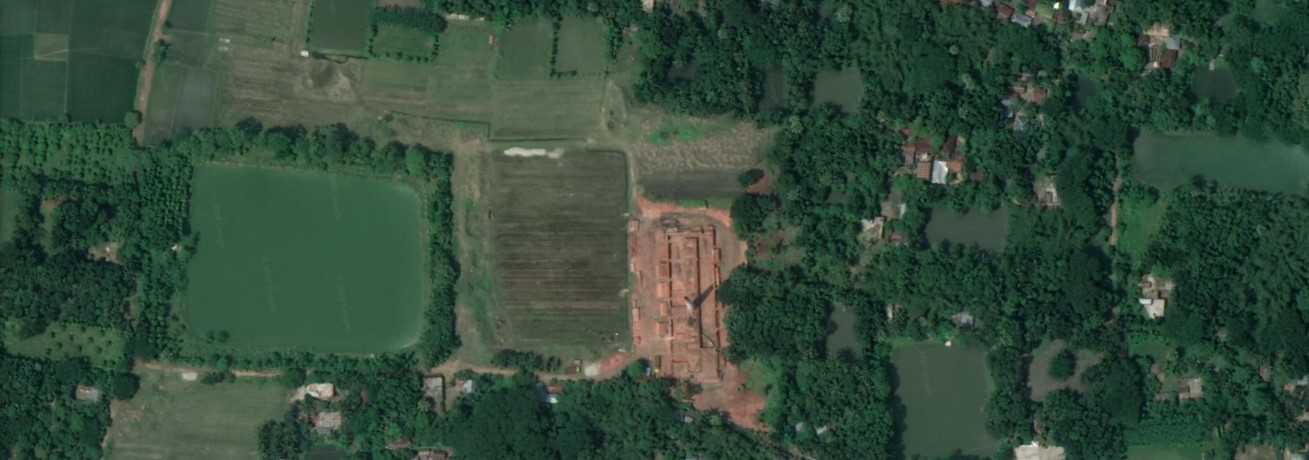kiln: (634, 222, 713, 357)
